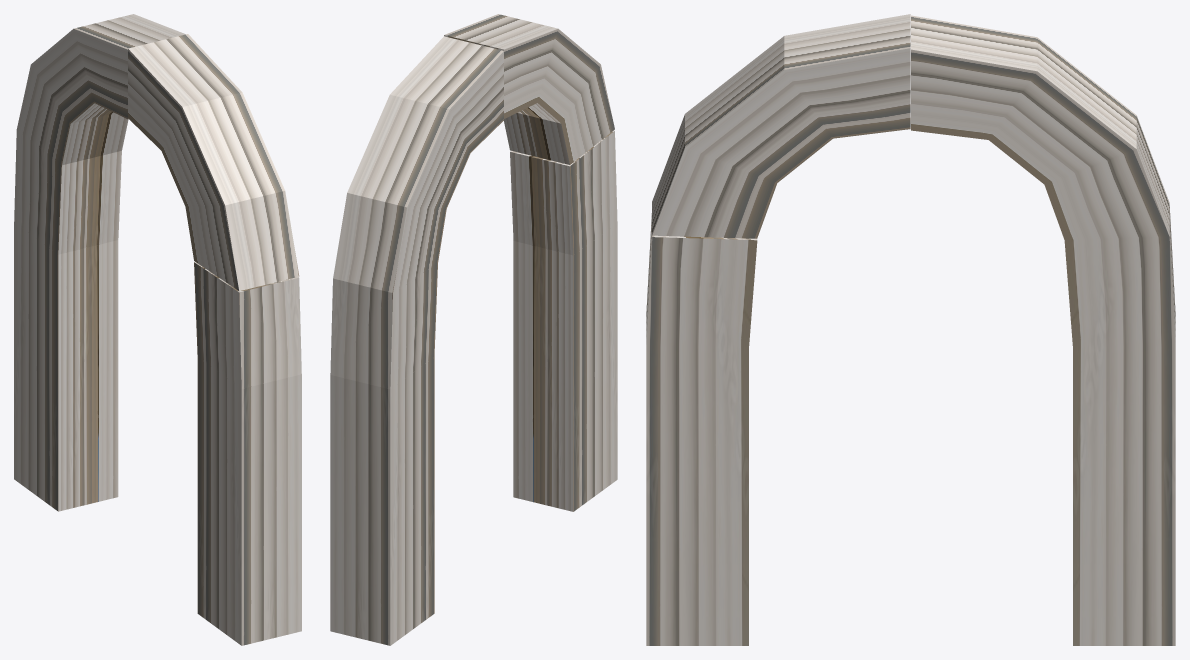
Rendered from arc_wihMat.fbx.
The picture shows the model from 3 angles, left to right: view 1: azimuth 30°, elevation 25°; view 2: azimuth 150°, elevation 25°; view 3: azimuth 270°, elevation 25°; orthographic projection. The views are drawn at different scales.
Visible parts, largest first — view 1: Haupt, Part; view 2: Haupt, Part; view 3: Haupt, Part.
Boxes of the visible parts, <box> form: Haupt: <box>14,14,301,645</box>; Part: <box>128,34,299,291</box>; Haupt: <box>330,36,617,645</box>; Part: <box>444,14,614,164</box>; Haupt: <box>646,15,1175,645</box>; Part: <box>652,14,910,238</box>.
Size of the model in its own units: 65.16 by 533 by 427.
